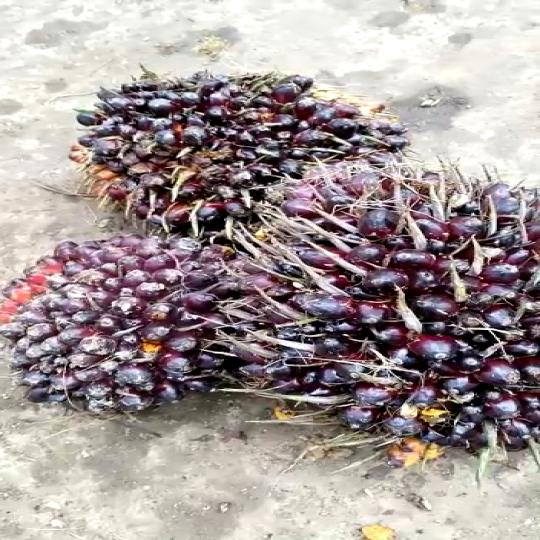kurang masak: (227, 144, 540, 481), (69, 46, 414, 229), (0, 212, 261, 444)
